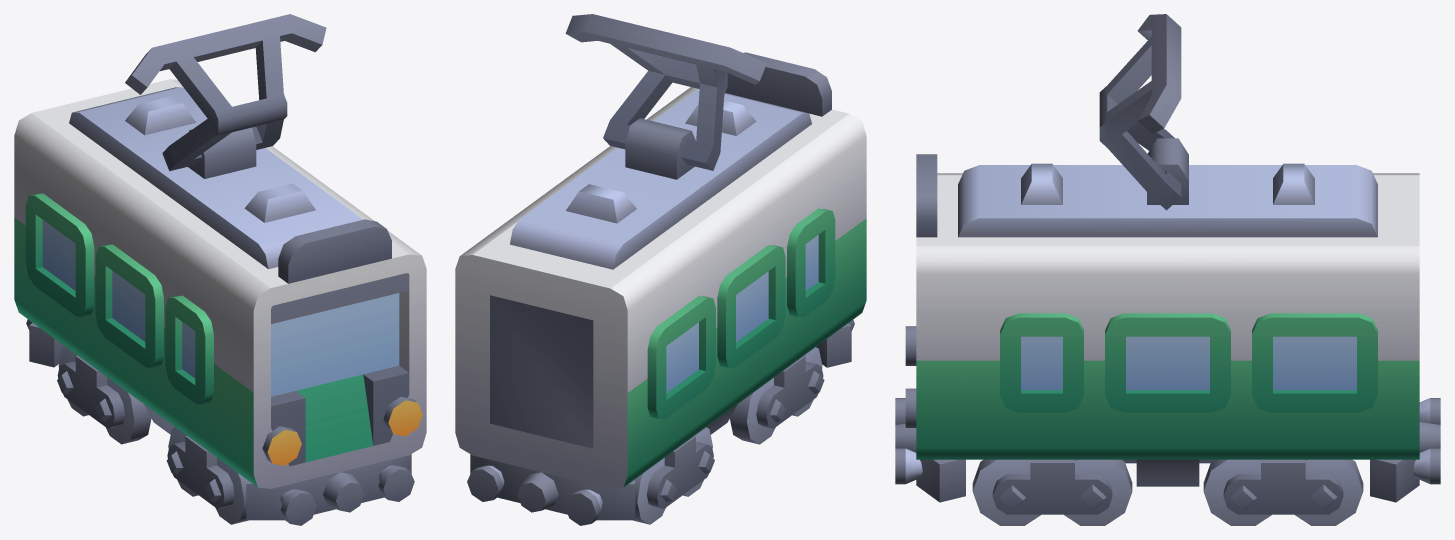
Rendered from kenney-train-train-electric-square-a.glb.
3 renders of one model, left to right at view 1: azimuth 30°, elevation 25°; view 2: azimuth 150°, elevation 25°; view 3: azimuth 270°, elevation 25°, orthographic. The views are drawn at different scales.
Parts seen in each view (by area): view 1: train-electric-square-a, collector, wheels-back, wheels-front; view 2: train-electric-square-a, collector, wheels-front, wheels-back; view 3: train-electric-square-a, collector, wheels-back, wheels-front.
Boxes of the visible parts, x1,y1,x2,y2 form: train-electric-square-a: [14, 79, 426, 525]; collector: [125, 14, 326, 171]; wheels-back: [57, 347, 151, 444]; wheels-front: [166, 427, 248, 524]; train-electric-square-a: [455, 52, 866, 525]; collector: [565, 14, 766, 170]; wheels-front: [730, 347, 824, 444]; wheels-back: [633, 427, 714, 524]; train-electric-square-a: [895, 138, 1440, 502]; collector: [1099, 14, 1181, 210]; wheels-back: [1203, 459, 1363, 525]; wheels-front: [972, 459, 1132, 525].
Bounding box in the file's own units: 1.13 × 2.32 × 2.6.
Materials: 1 (1 with a texture image).
